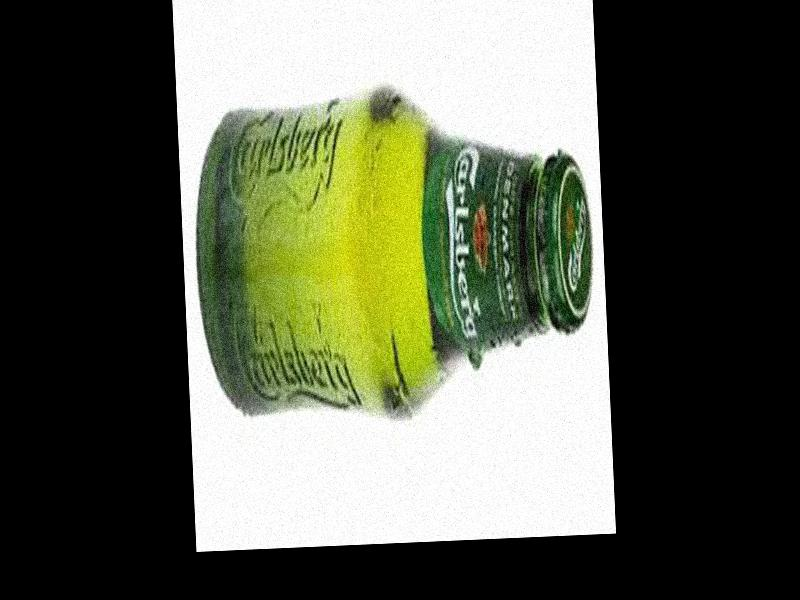Beer: (188, 86, 598, 425)
